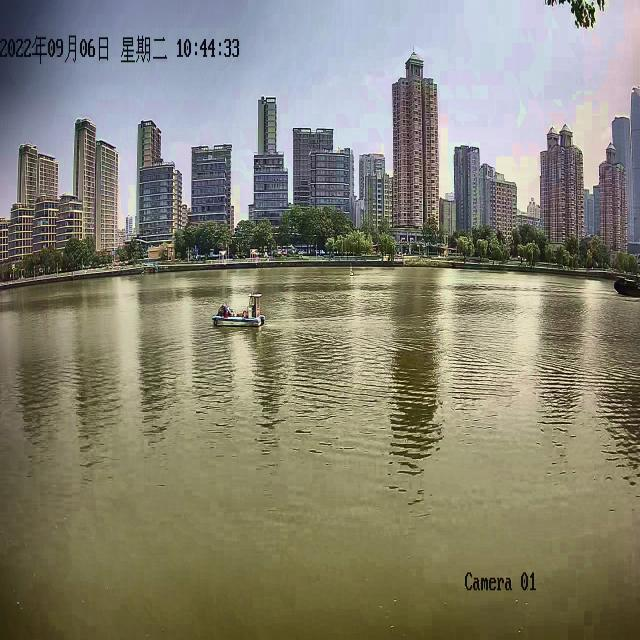ship: (211, 290, 265, 326), (614, 275, 640, 296)
